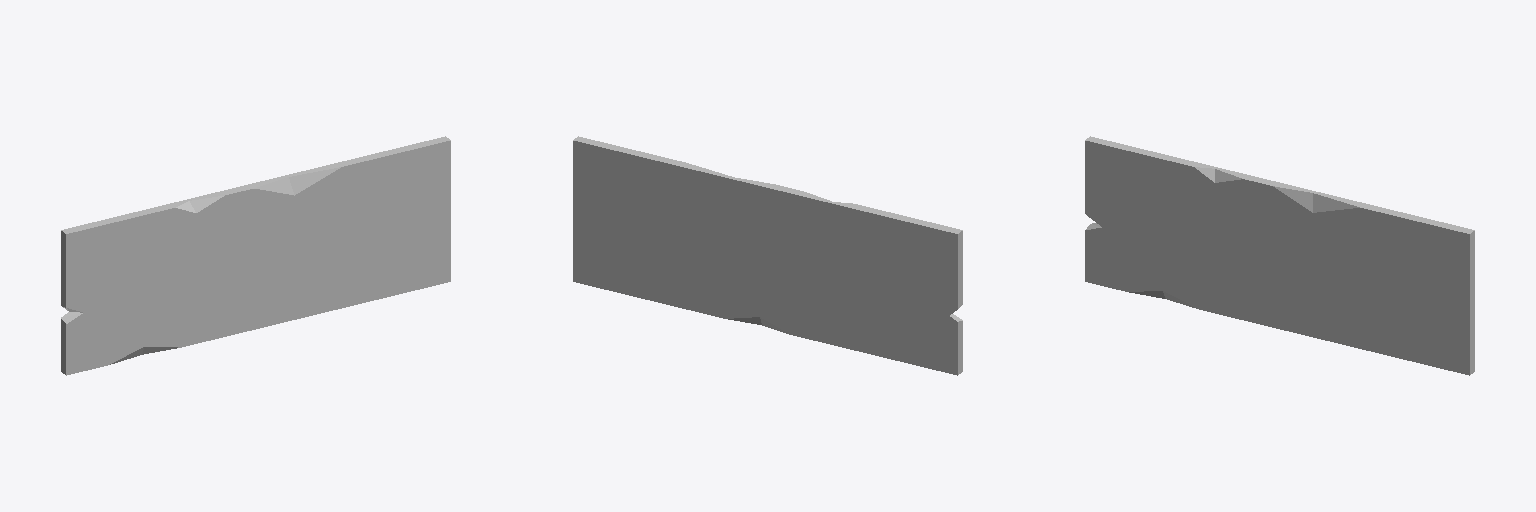
File: SM_Prop_Sign_Fruit_01.obj
The picture shows the model from 3 angles: view 1: azimuth 30°, elevation 25°; view 2: azimuth 150°, elevation 25°; view 3: azimuth 330°, elevation 25°; orthographic projection.
Size of the model in its own units: 97.31 by 34.18 by 2.41.